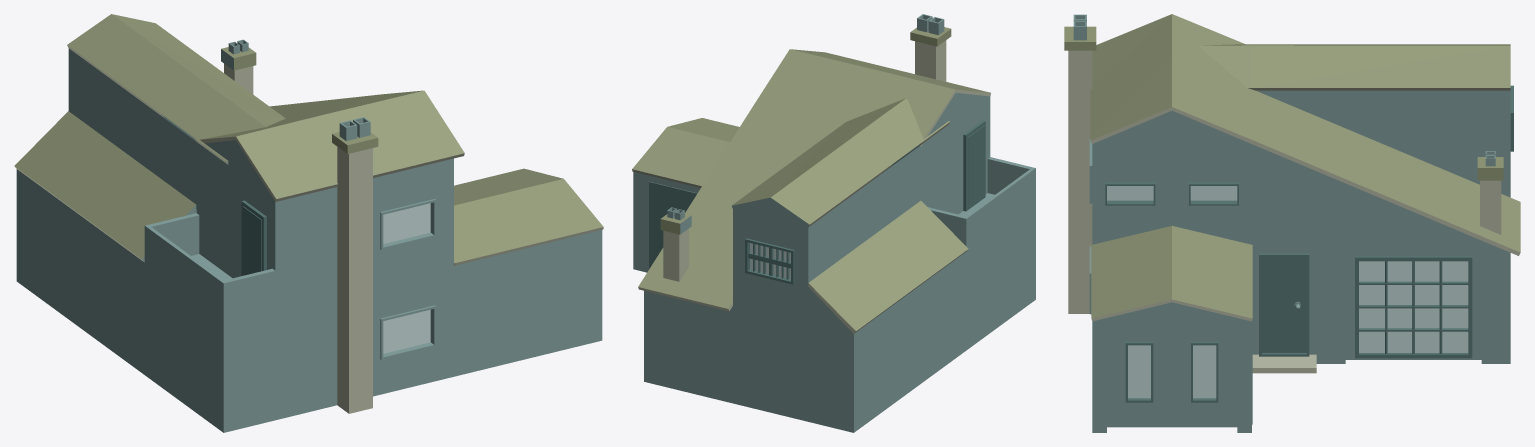
Rendered from house_et.fbx.
3 views of the same model, side by side, from view 1: azimuth 30°, elevation 25°; view 2: azimuth 150°, elevation 25°; view 3: azimuth 270°, elevation 25° (orthographic). The views are drawn at different scales.
Parts seen in each view (by area): view 1: pCube7; view 2: pCube7; view 3: pCube7.
Part boxes in pixels (box(x1,y1,x2,y2)): pCube7: box(14, 14, 603, 432); pCube7: box(632, 14, 1035, 432); pCube7: box(1064, 14, 1520, 432).
Bounding box in the file's own units: 20.71 × 14.74 × 21.18.
